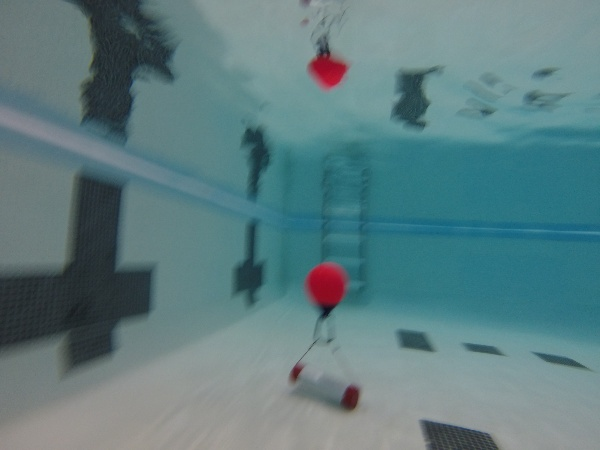buoy_red: (305, 262, 346, 316)
